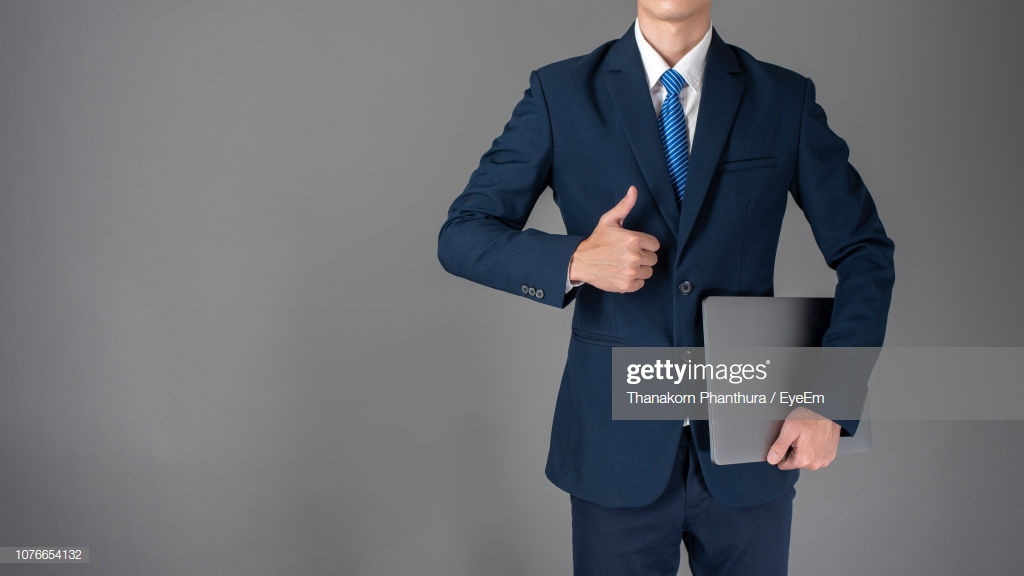thumbsup: (600, 184, 661, 294)
